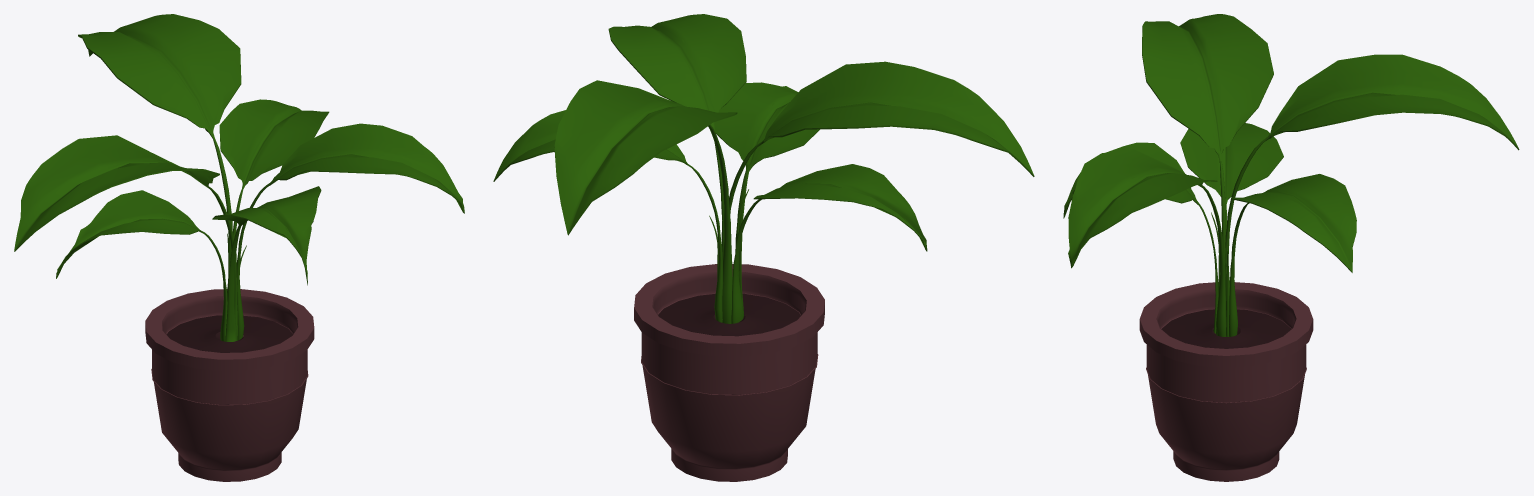
Rendered from plant.fbx.
3 renders of one model, left to right at view 1: azimuth 30°, elevation 25°; view 2: azimuth 150°, elevation 25°; view 3: azimuth 270°, elevation 25°, orthographic. The views are drawn at different scales.
Parts seen in each view (by area): view 1: polySurface7, pCylinder1; view 2: polySurface7, pCylinder1; view 3: polySurface7, pCylinder1.
Part boxes in pixels (bbox=[...]): polySurface7: bbox=[14, 14, 464, 341]; pCylinder1: bbox=[145, 289, 314, 481]; polySurface7: bbox=[493, 14, 1034, 323]; pCylinder1: bbox=[634, 264, 824, 481]; polySurface7: bbox=[1063, 14, 1519, 336]; pCylinder1: bbox=[1139, 282, 1313, 481].
Size of the model in its own units: 17.51 by 15.1 by 16.61.
